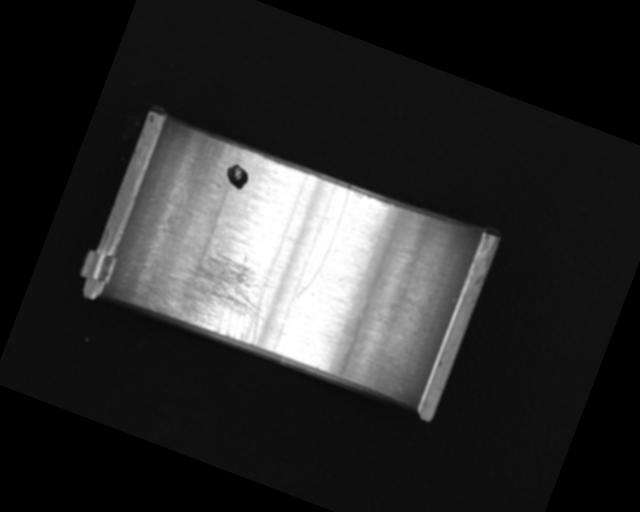blot: (220, 160, 253, 193)
nick: (294, 181, 354, 304)
scratch: (146, 226, 284, 349)
